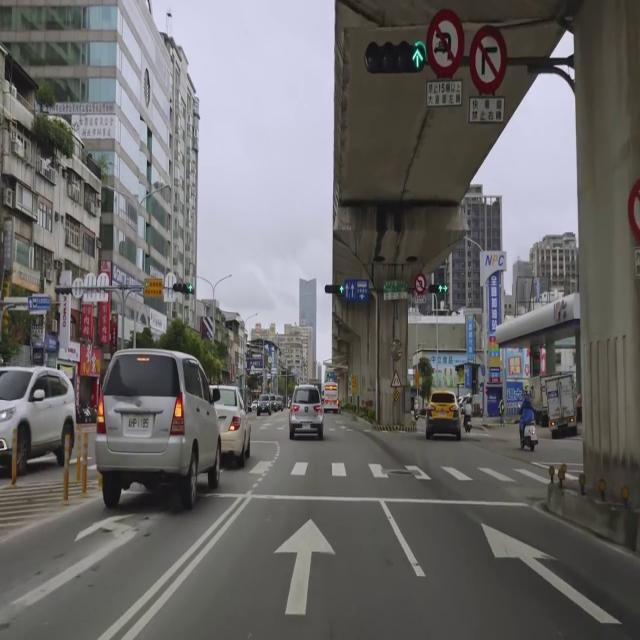green light: (365, 39, 427, 75), (172, 282, 194, 294), (324, 283, 344, 295), (429, 282, 447, 294)
